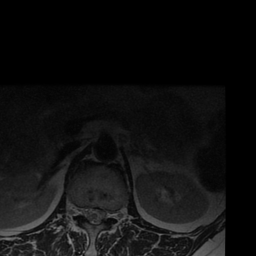CCS_normal: (91, 202, 99, 230)
LFS_normal: (107, 205, 114, 222)
LLS_stenosis: (99, 203, 106, 227)
RFS_normal: (75, 203, 84, 219)
RLS_normal: (84, 202, 91, 224)
